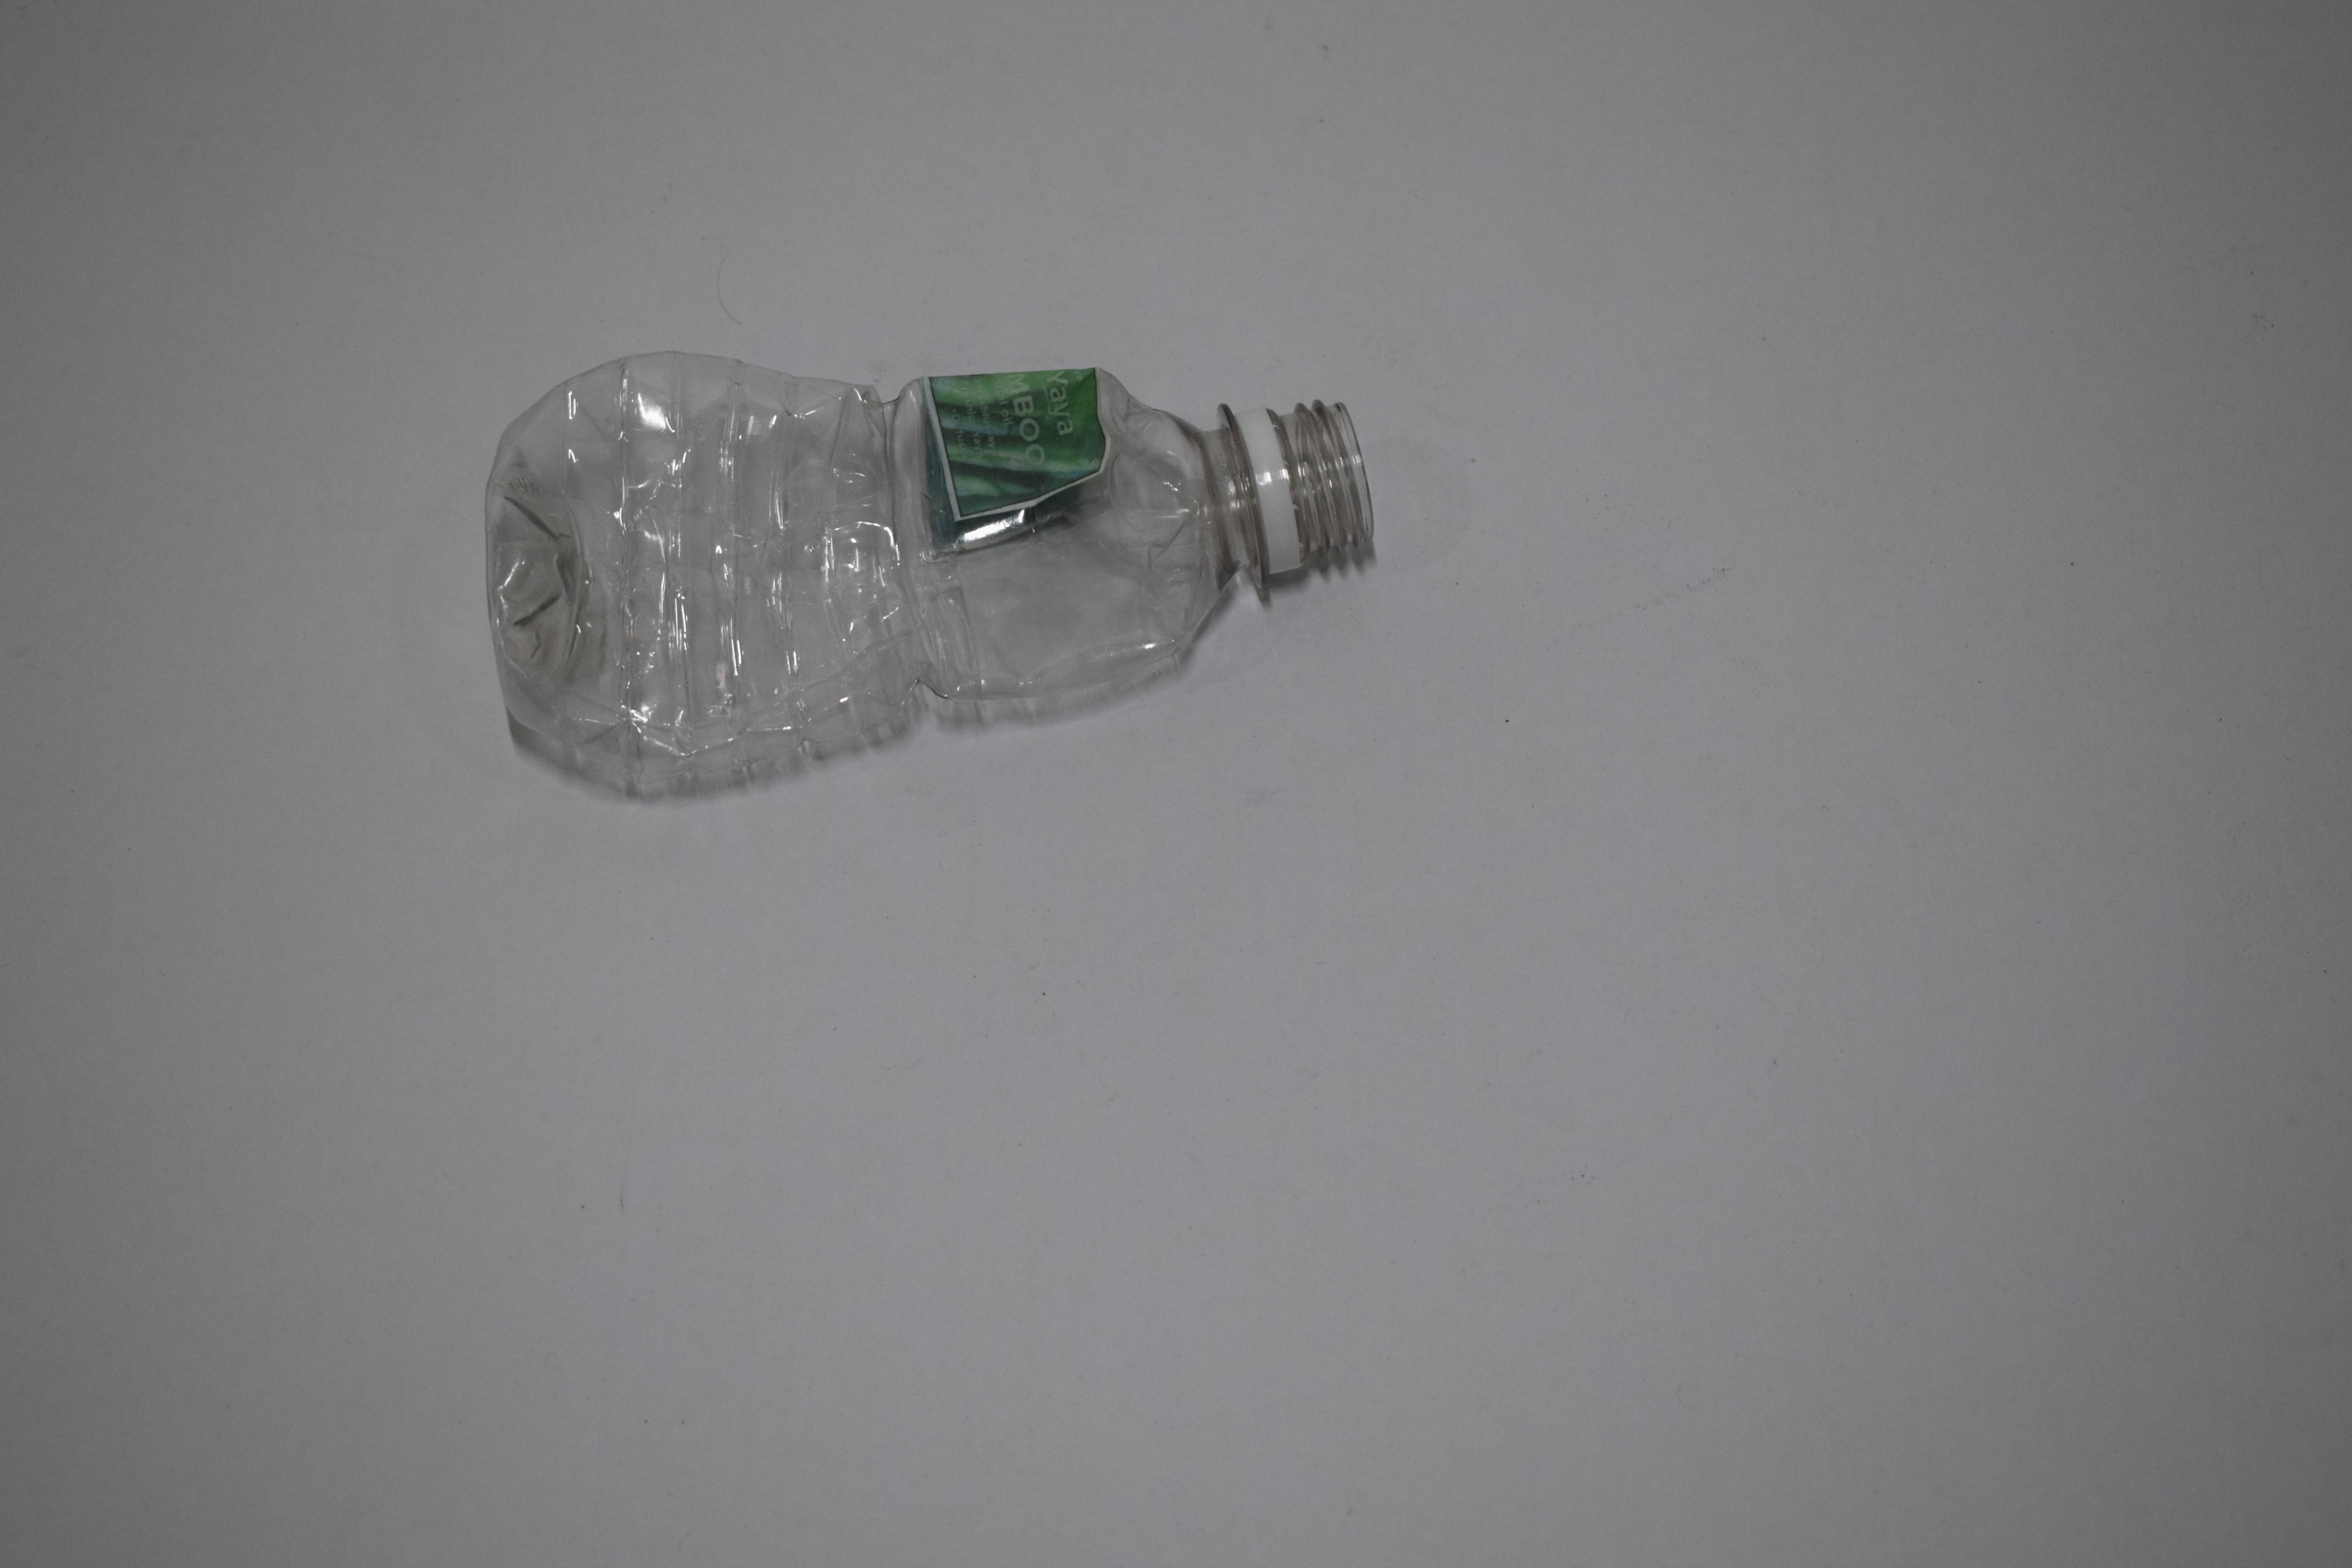bottle: (467, 339, 1369, 795)
